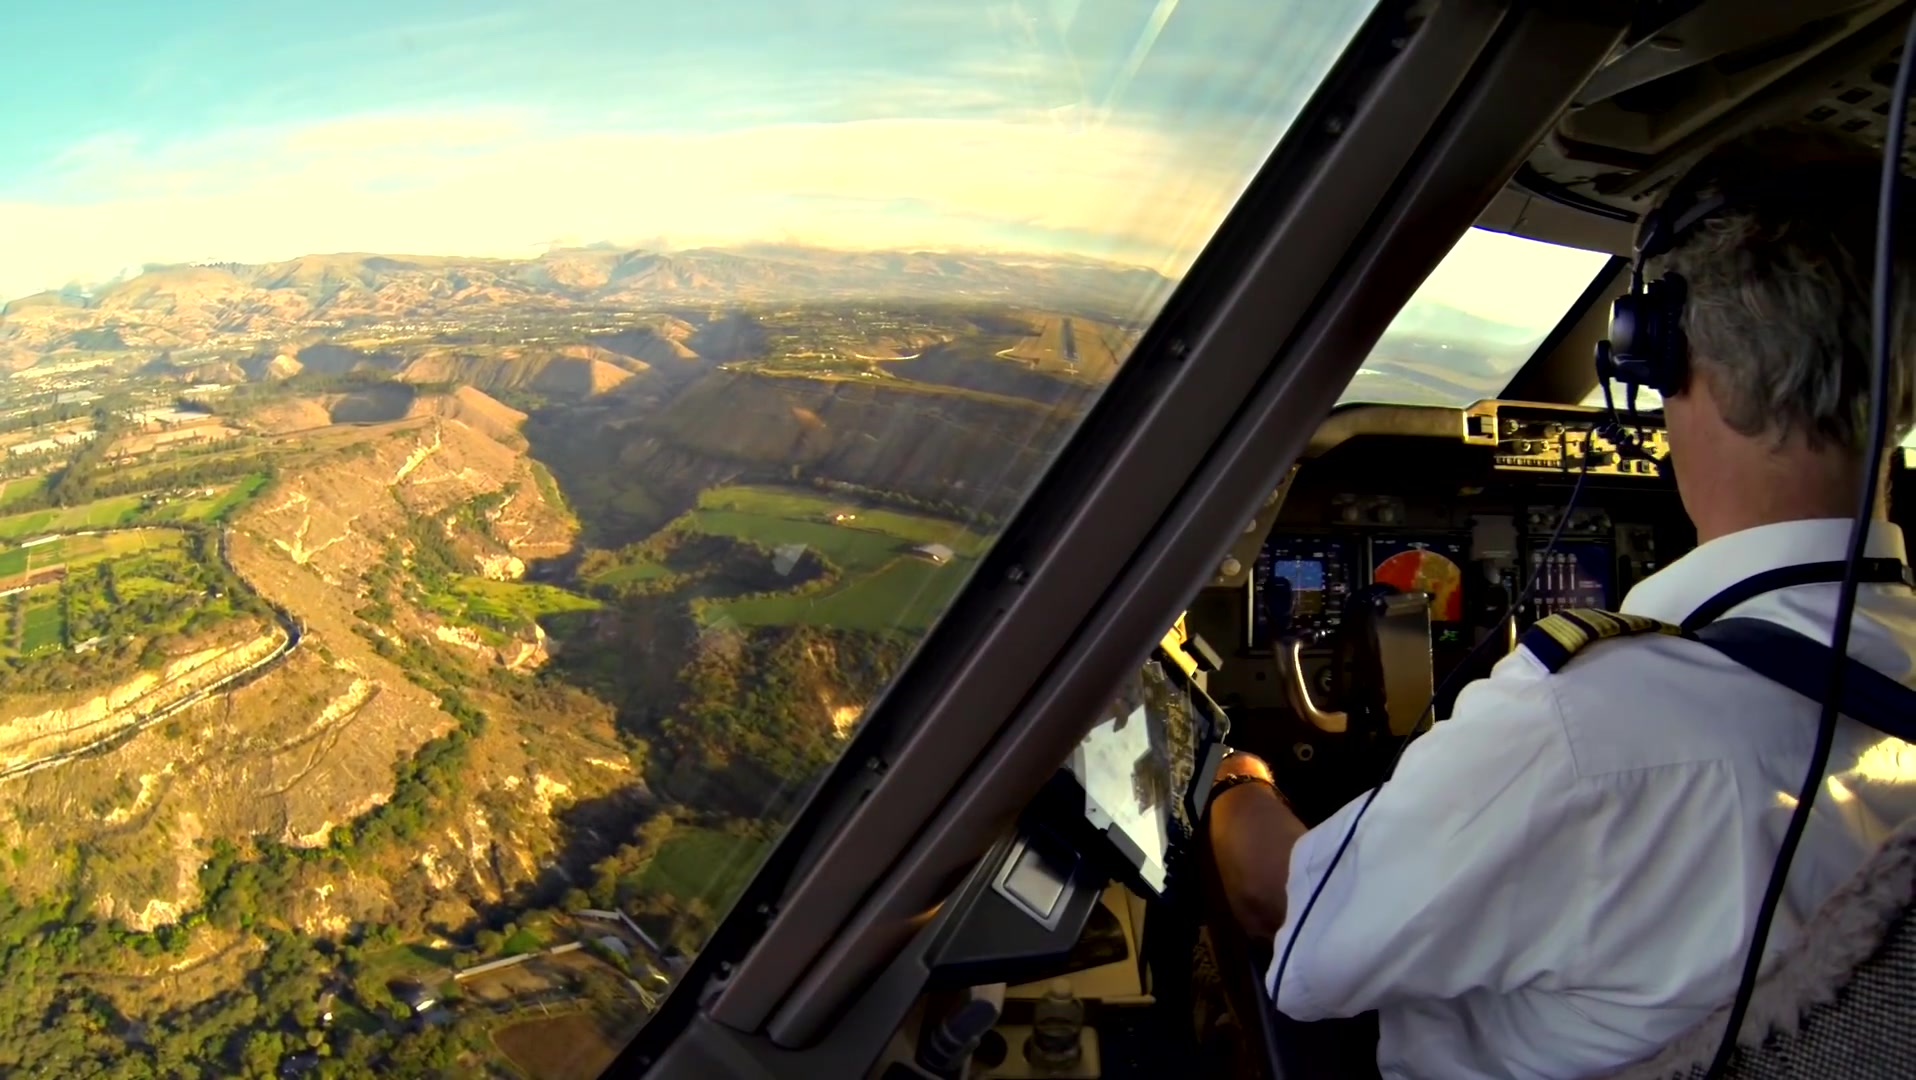runway: (1051, 318, 1084, 364)
